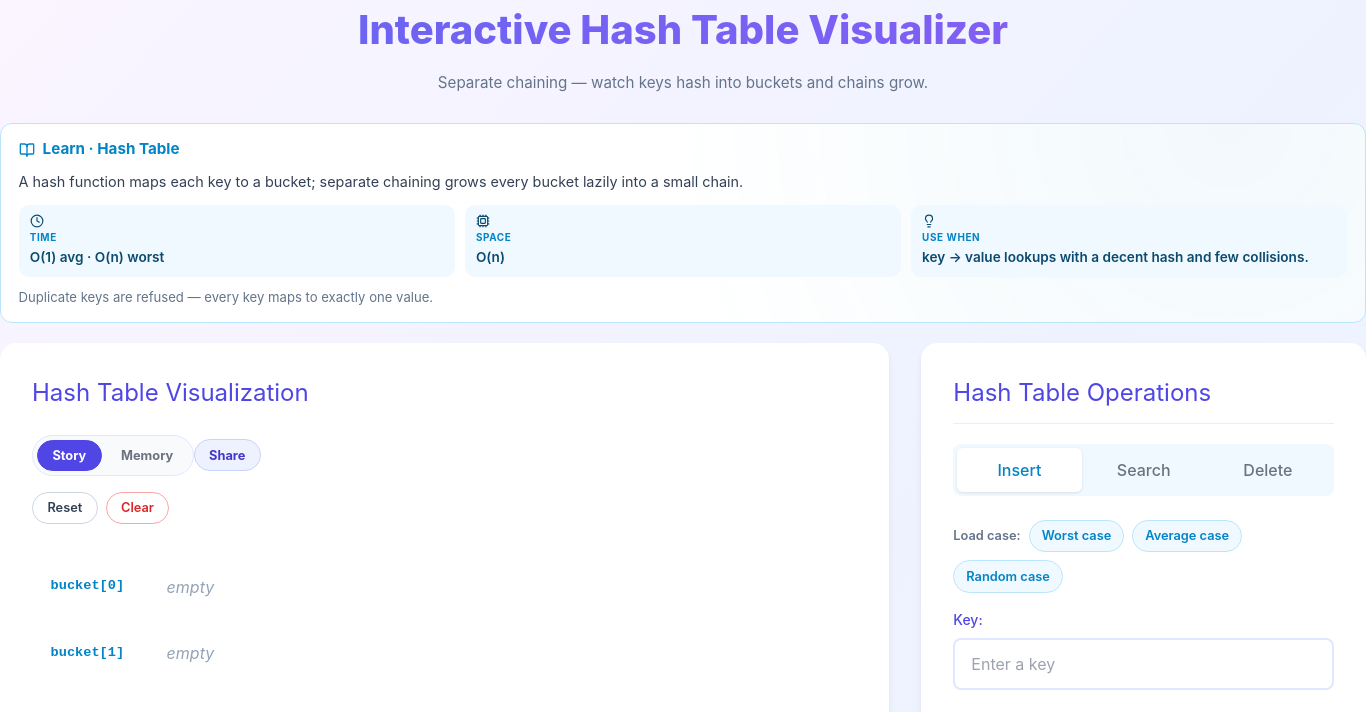
Test case: hash table operations › inserting a duplicate key is refused with a guided error
Type "25" into the number field with placeholder "Enter a key" at (1144, 664), box [953,638,1334,690]
(page scrolled)
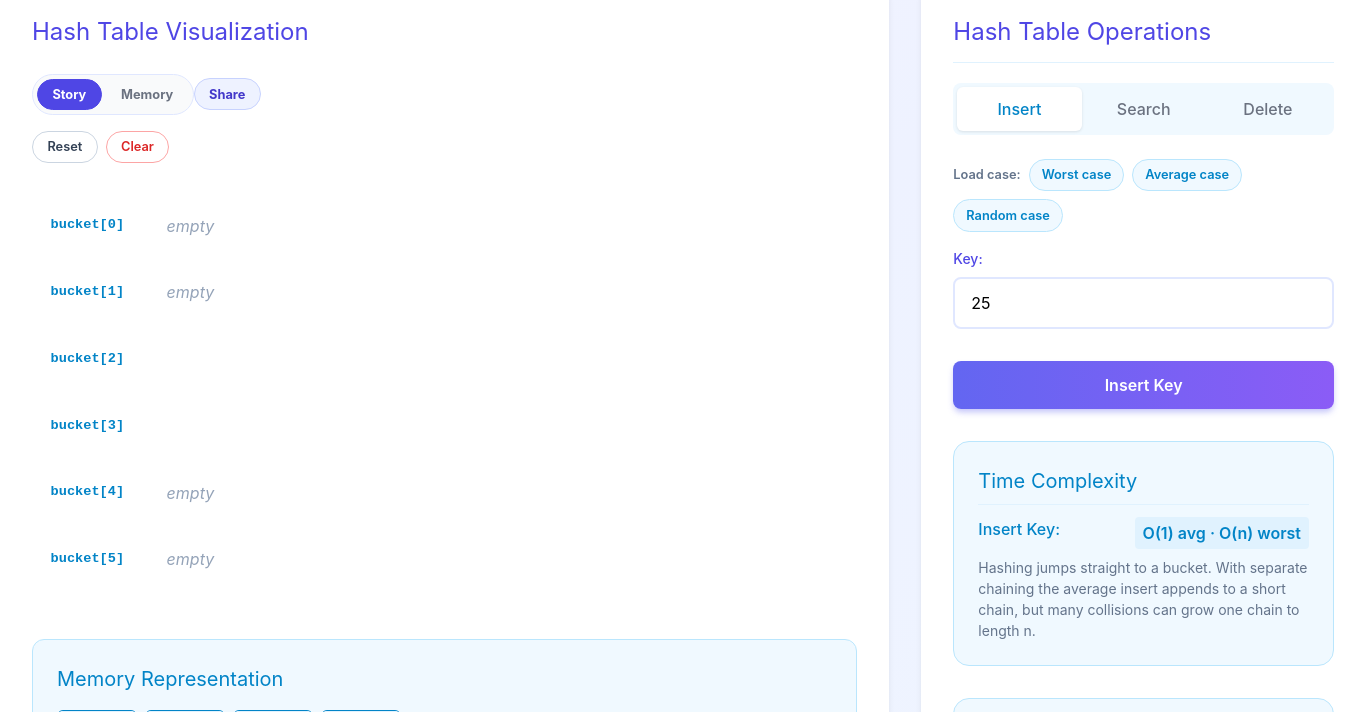
Click the button "Insert Key" at (1144, 385), box [953,361,1334,409]
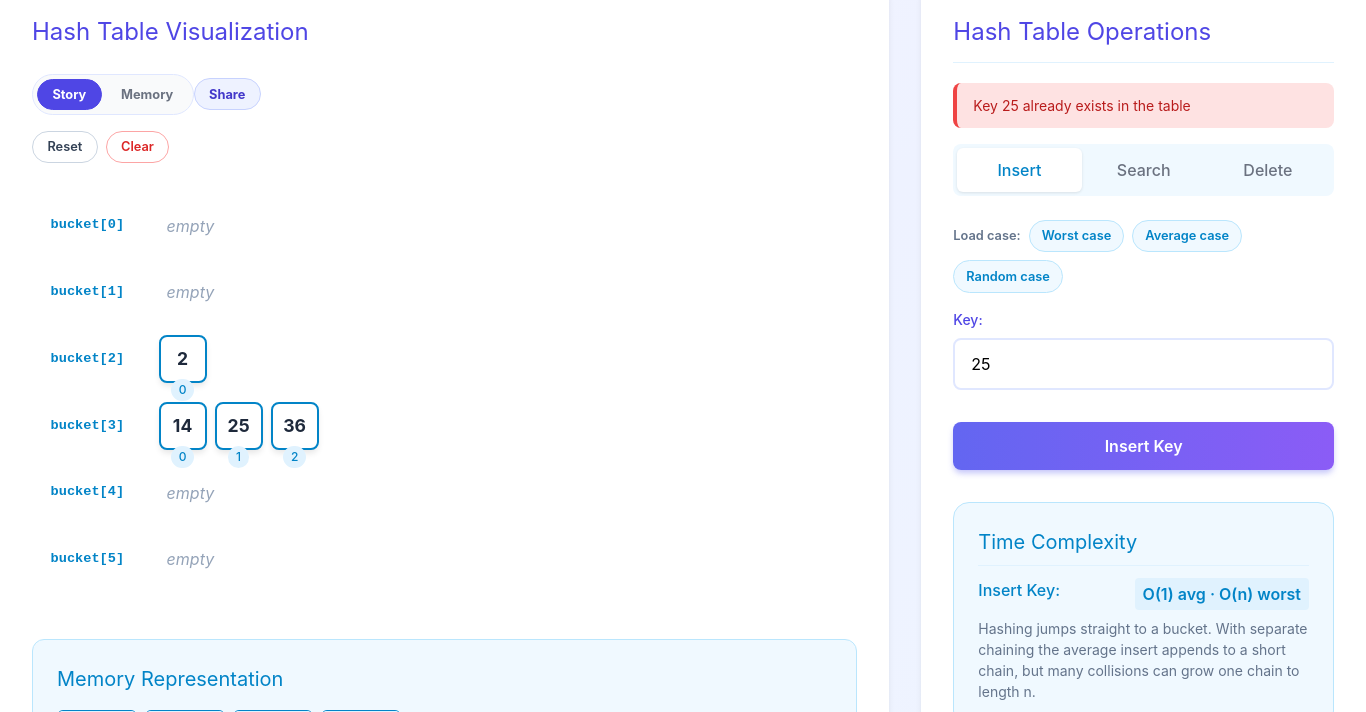
Expected: the text "Key 25 already exists in the table" is shown, [953,83,1334,128]
